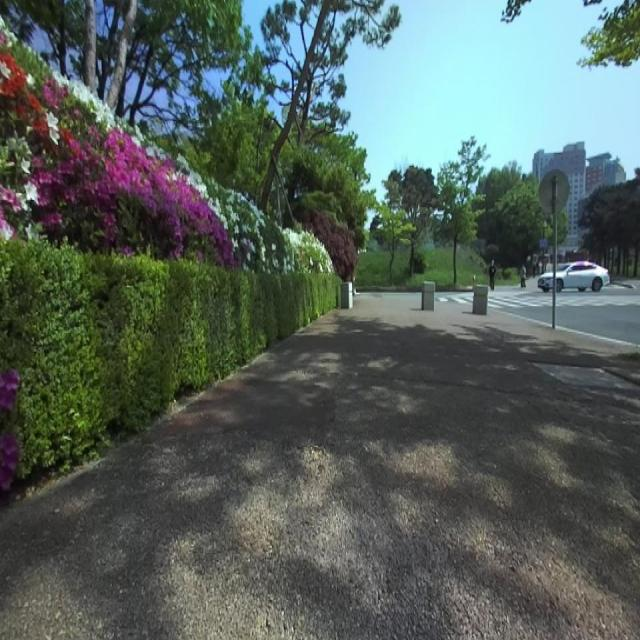sidewalk: (0, 294, 640, 639)
